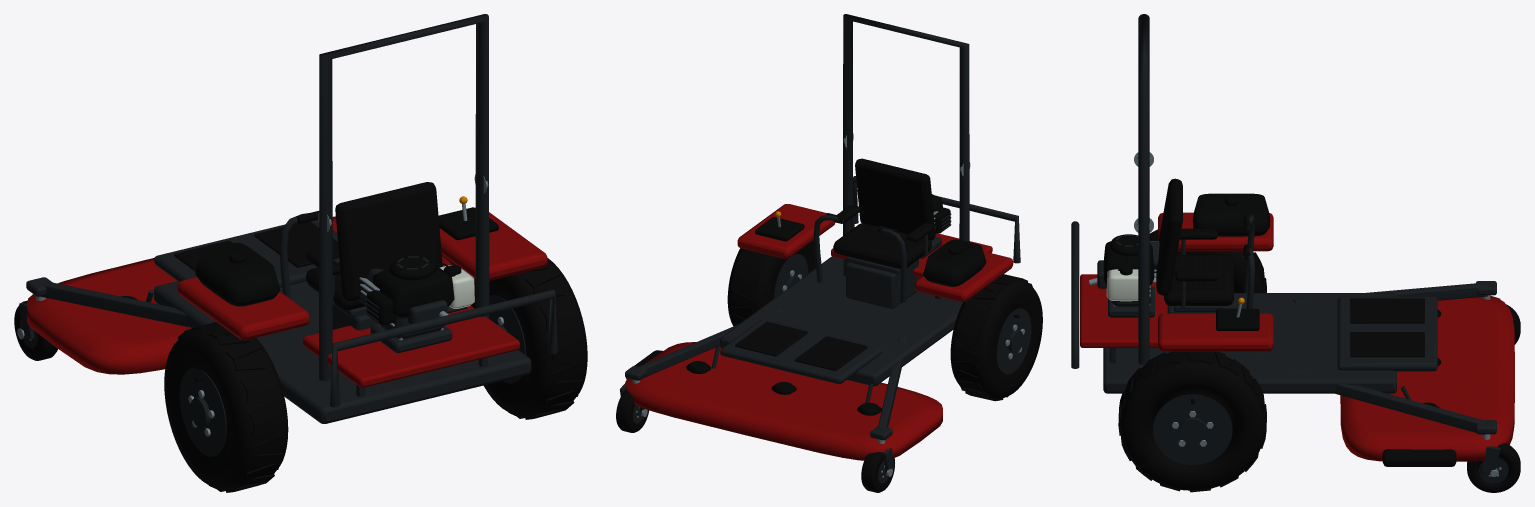
The model's file is CommercialZeroTurn.gltf.
The picture shows the model from 3 angles, left to right: view 1: azimuth 30°, elevation 25°; view 2: azimuth 150°, elevation 25°; view 3: azimuth 270°, elevation 25°; orthographic projection. The views are drawn at different scales.
Parts seen in each view (by area): view 1: CommercialZeroTurn__Body, CommercialZeroTurn__Wheel_Rear-1, CommercialZeroTurn__Wheel_Rear1, CommercialZeroTurn__Wheel_Front-1; view 2: CommercialZeroTurn__Body, CommercialZeroTurn__Wheel_Rear-1, CommercialZeroTurn__Wheel_Rear1, CommercialZeroTurn__Wheel_Front-1, CommercialZeroTurn__Wheel_Front1; view 3: CommercialZeroTurn__Body, CommercialZeroTurn__Wheel_Rear1, CommercialZeroTurn__Wheel_Front1, CommercialZeroTurn__Wheel_Rear-1.
Boxes of the visible parts, <box> form: CommercialZeroTurn__Body: <box>17,14,557,423</box>; CommercialZeroTurn__Wheel_Rear-1: <box>164,322,288,492</box>; CommercialZeroTurn__Wheel_Rear1: <box>471,258,587,419</box>; CommercialZeroTurn__Wheel_Front-1: <box>14,300,57,360</box>; CommercialZeroTurn__Body: <box>620,14,1020,476</box>; CommercialZeroTurn__Wheel_Rear-1: <box>950,274,1042,401</box>; CommercialZeroTurn__Wheel_Rear1: <box>727,240,815,326</box>; CommercialZeroTurn__Wheel_Front-1: <box>861,452,894,492</box>; CommercialZeroTurn__Wheel_Front1: <box>616,390,649,432</box>; CommercialZeroTurn__Body: <box>1071,14,1514,476</box>; CommercialZeroTurn__Wheel_Rear1: <box>1118,351,1266,492</box>; CommercialZeroTurn__Wheel_Front1: <box>1467,443,1520,492</box>; CommercialZeroTurn__Wheel_Rear-1: <box>1149,229,1266,292</box>.
Bounding box in the file's own units: 1.76 × 1.9 × 2.08.
1 material, 1 textured.
